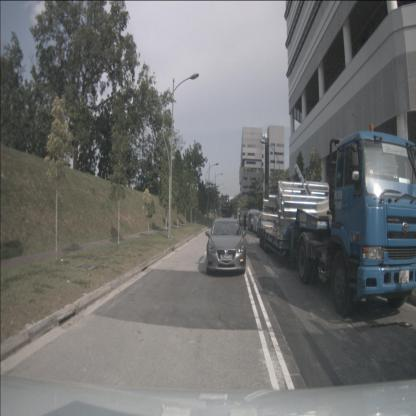human-pedestrian-adult: (243, 212, 247, 231)
vehicle-bus-rigid: (221, 202, 232, 223)
vehicle-car: (206, 218, 246, 275), (252, 211, 266, 234), (247, 209, 261, 231)
vehicle-truck: (298, 124, 416, 316), (240, 211, 249, 226)
